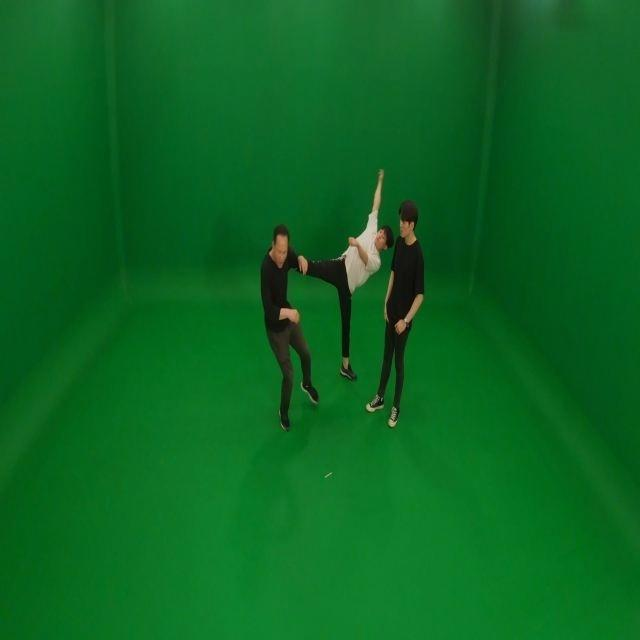fight: (260, 164, 395, 437)
non-fight: (367, 200, 425, 431)
